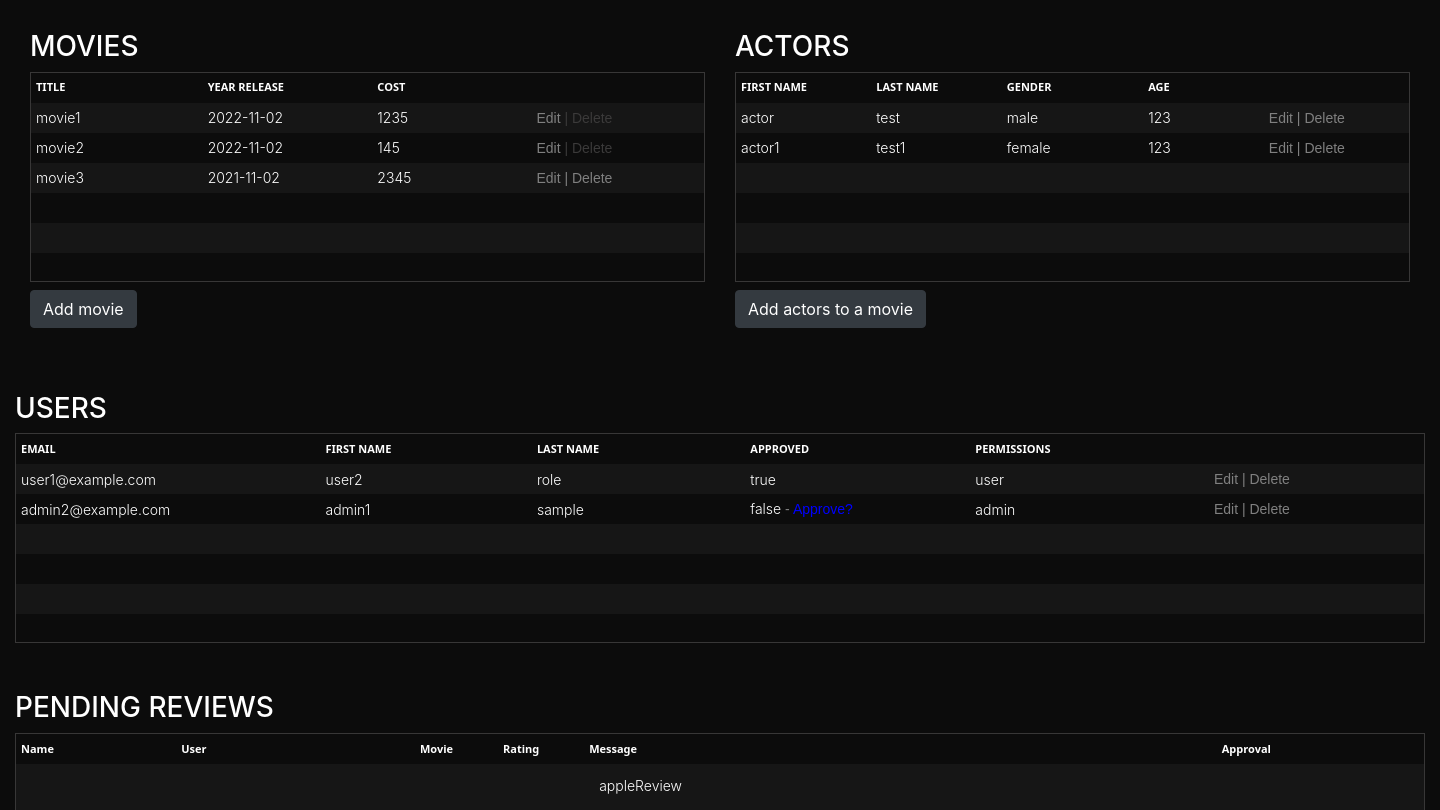
Test: <DeleteModal/> › Should hide when clicking cancel btn
Click the button named "| delete": (586, 118) [560, 108, 612, 129]
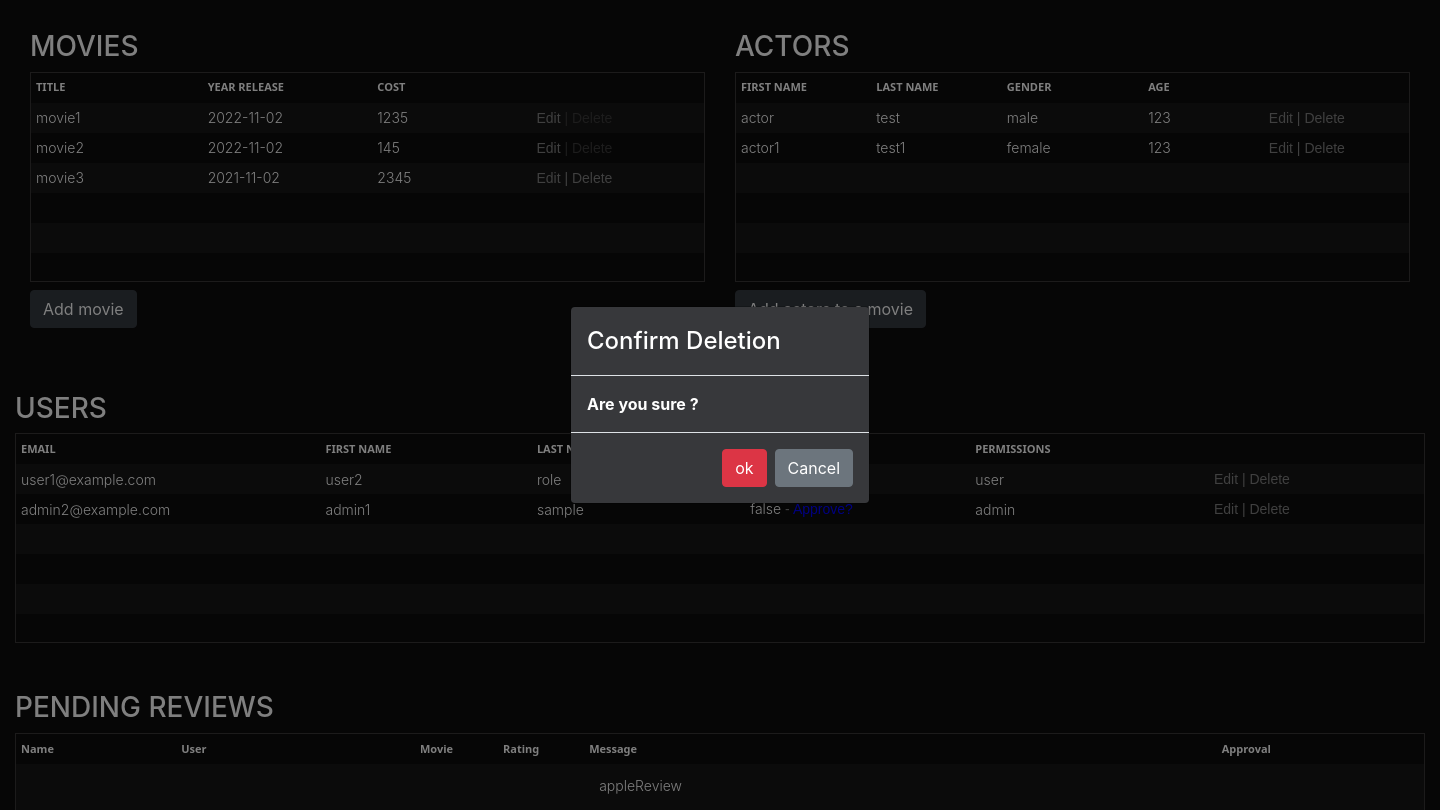
Click the button "Cancel": (814, 468) [774, 449, 853, 487]
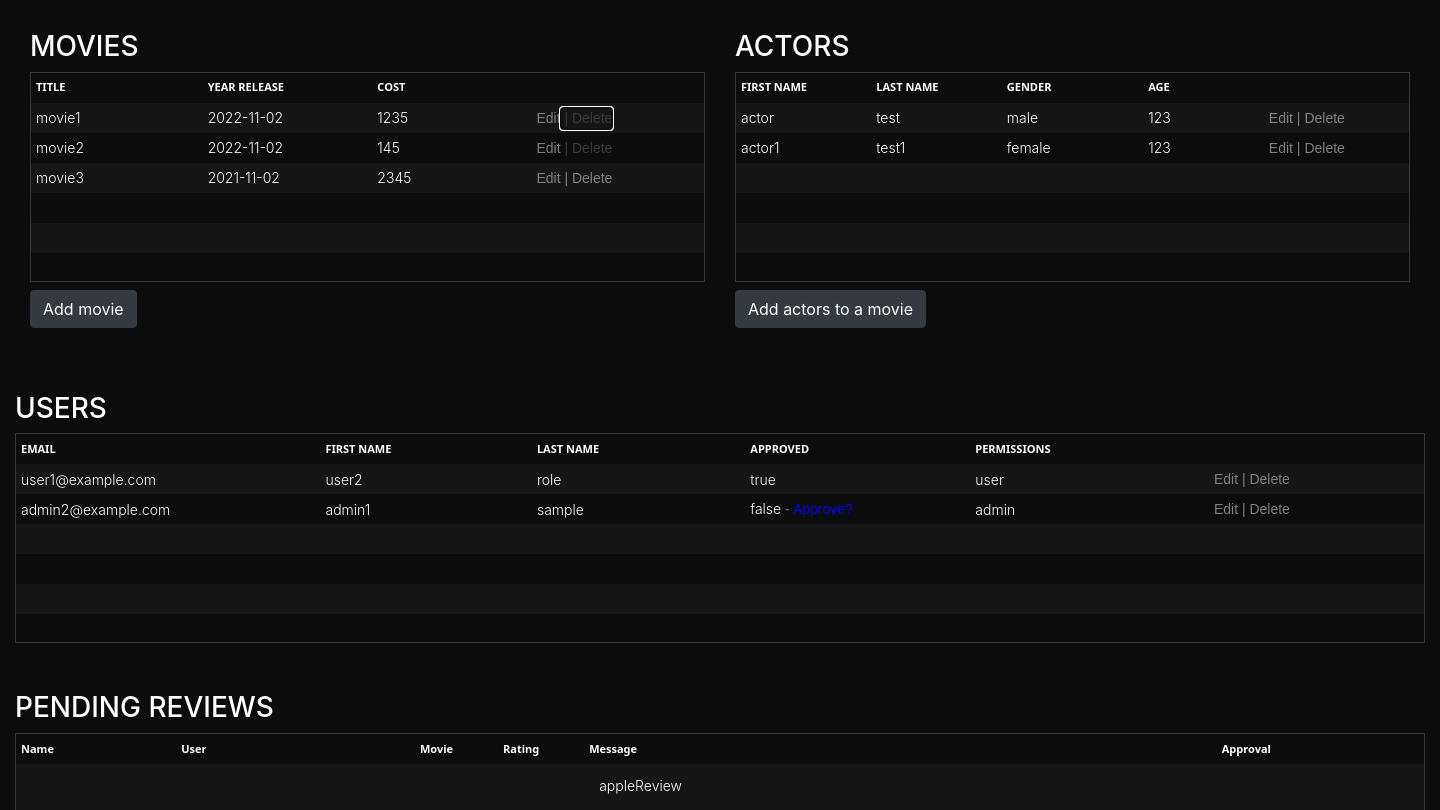
Check: the text "Confirm Deletion" is gone
